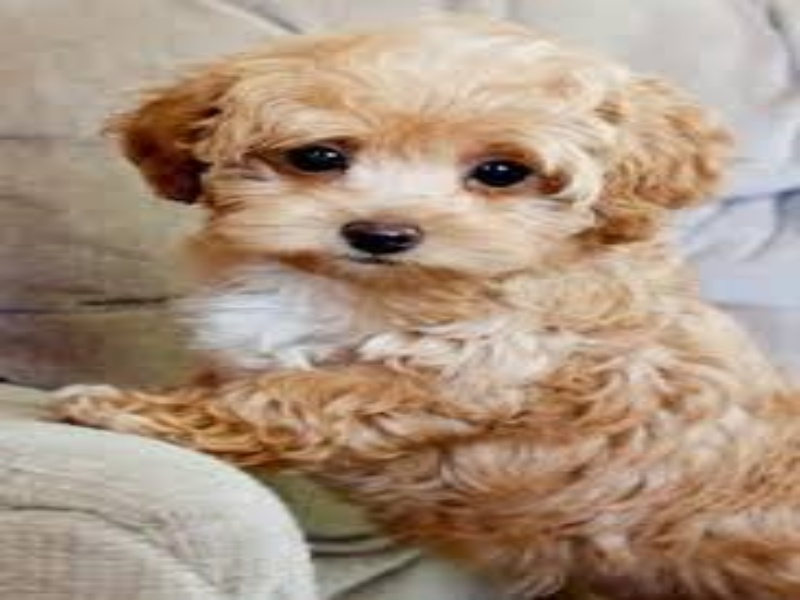dog: (48, 25, 781, 563)
